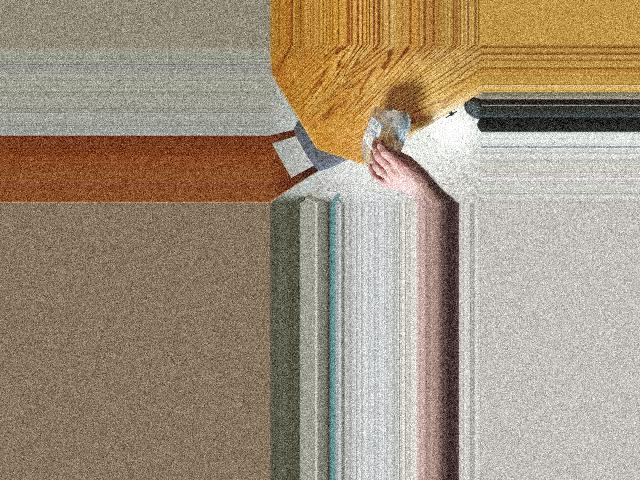cheese: (359, 111, 407, 167)
